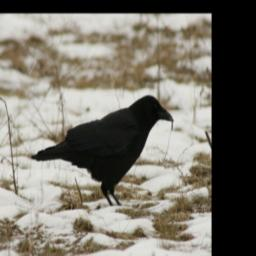Crow: (32, 89, 178, 209)
